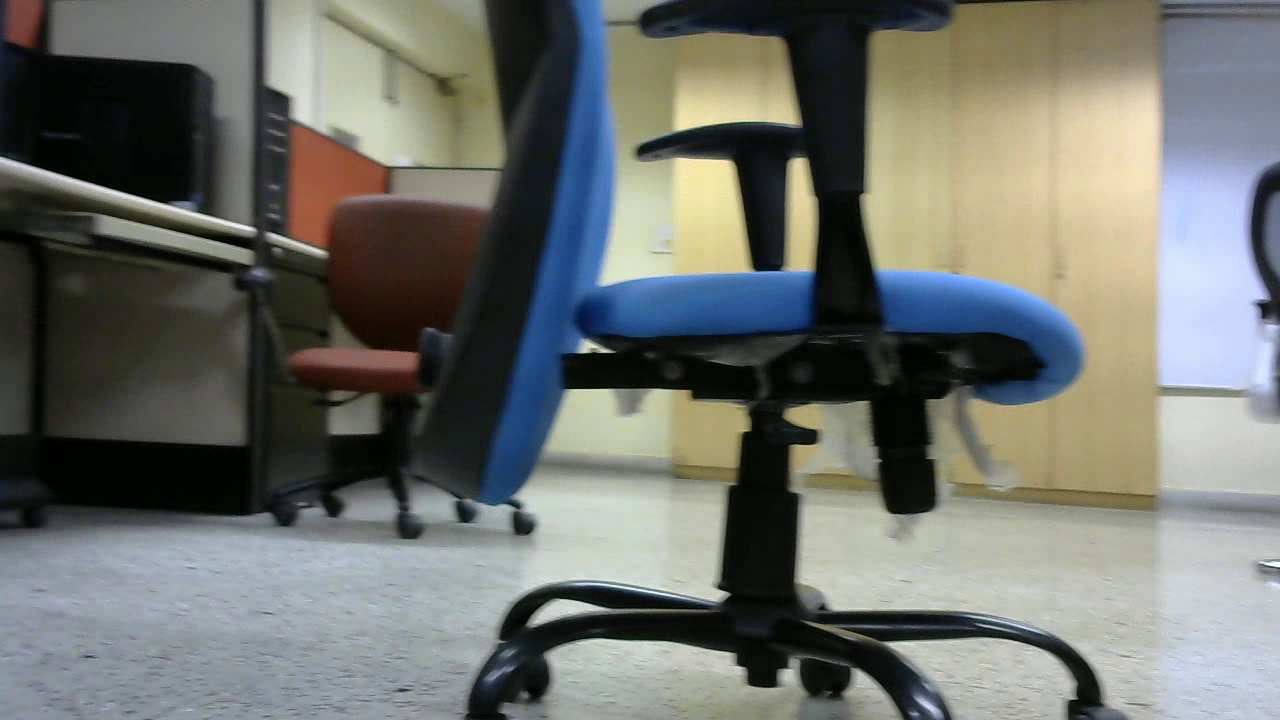chair: (421, 3, 1120, 720), (226, 196, 539, 540)
